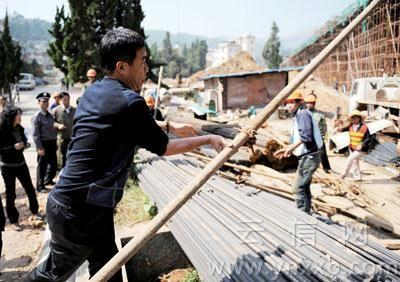helmet: (287, 90, 306, 103), (146, 95, 157, 107), (305, 94, 317, 104), (351, 111, 364, 120), (86, 68, 97, 78), (53, 92, 61, 100)
